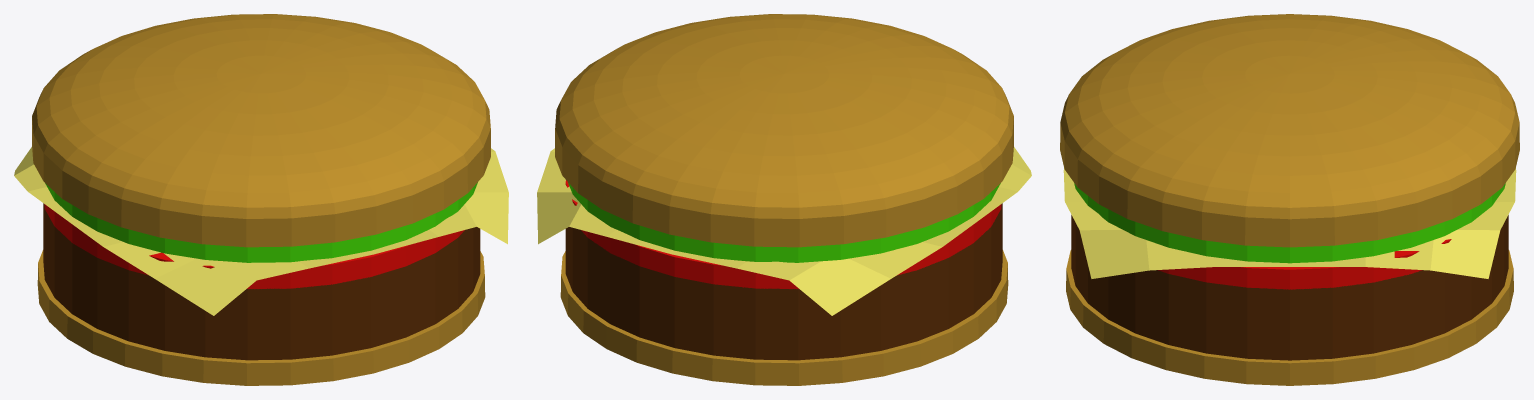
File: hamburger.fbx
3 renders of one model, left to right at view 1: azimuth 30°, elevation 25°; view 2: azimuth 150°, elevation 25°; view 3: azimuth 270°, elevation 25°, orthographic.
Visible parts, largest first — view 1: Burger; view 2: Burger; view 3: Burger.
Boxes of the visible parts, <box> form: Burger: <box>14,14,508,385</box>; Burger: <box>537,14,1031,385</box>; Burger: <box>1060,14,1519,385</box>.
Size of the model in its own units: 51.56 by 30.45 by 51.56.
